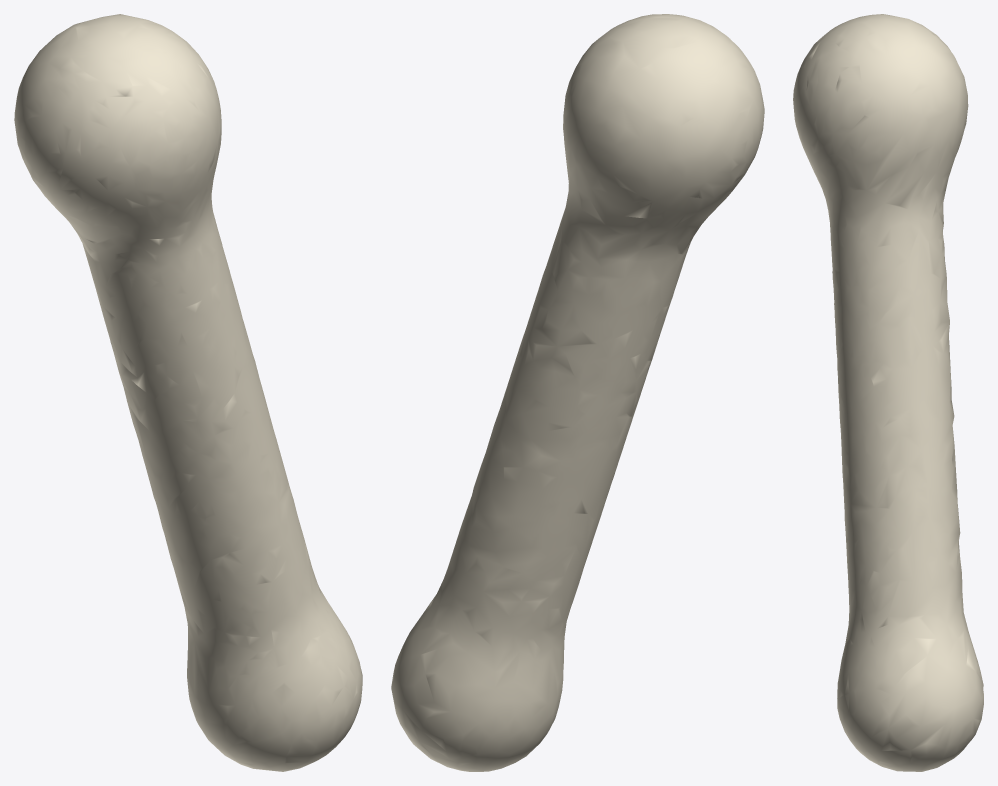
Rendered from tibia_l.glb.
3 renders of one model, left to right at view 1: azimuth 30°, elevation 25°; view 2: azimuth 150°, elevation 25°; view 3: azimuth 270°, elevation 25°, orthographic. The views are drawn at different scales.
Visible parts, largest first — view 1: geometry_0; view 2: geometry_0; view 3: geometry_0.
Boxes of the visible parts, x1,y1,x2,y2 form: geometry_0: [14, 14, 362, 771]; geometry_0: [391, 14, 764, 771]; geometry_0: [793, 14, 983, 771].
Bounding box in the file's own units: 0.33 × 0.7339 × 0.1895.
